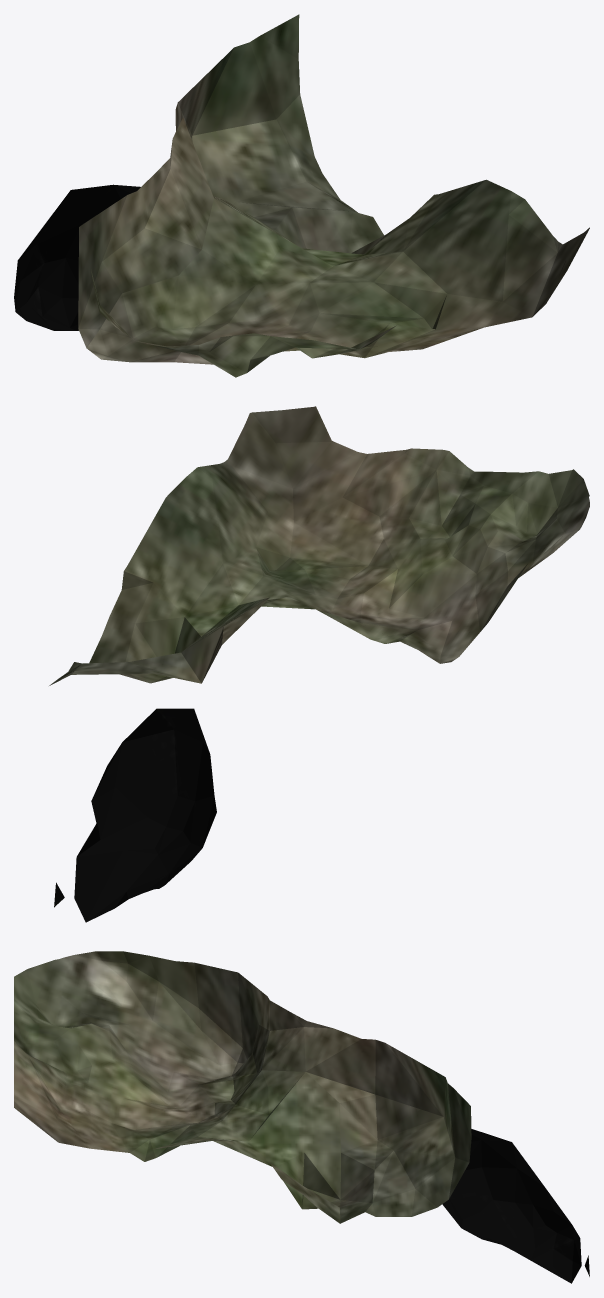
3 renders of one model, top to bottom at view 1: azimuth 30°, elevation 25°; view 2: azimuth 150°, elevation 25°; view 3: azimuth 270°, elevation 25°, orthographic. The views are drawn at different scales.
Size of the model in its own units: 3.19 by 2.24 by 5.02.
1 material, 1 textured.
